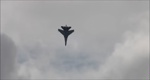maybay_muctieu: (58, 23, 75, 46)
